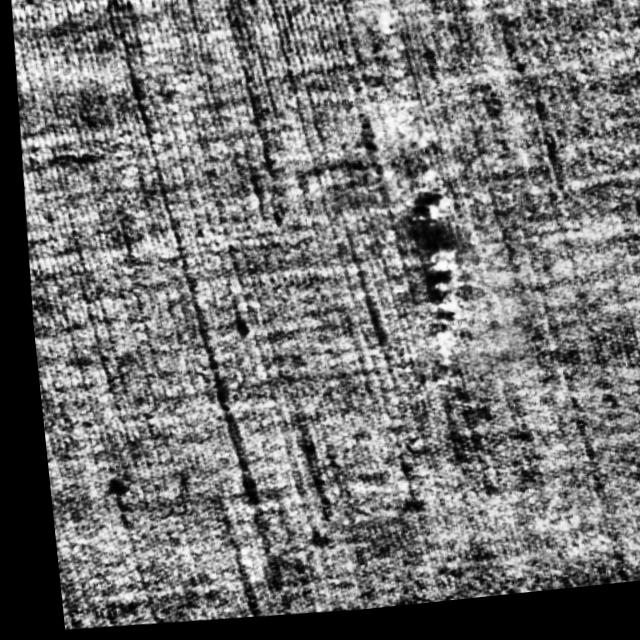Stitch: (379, 179, 480, 383)
